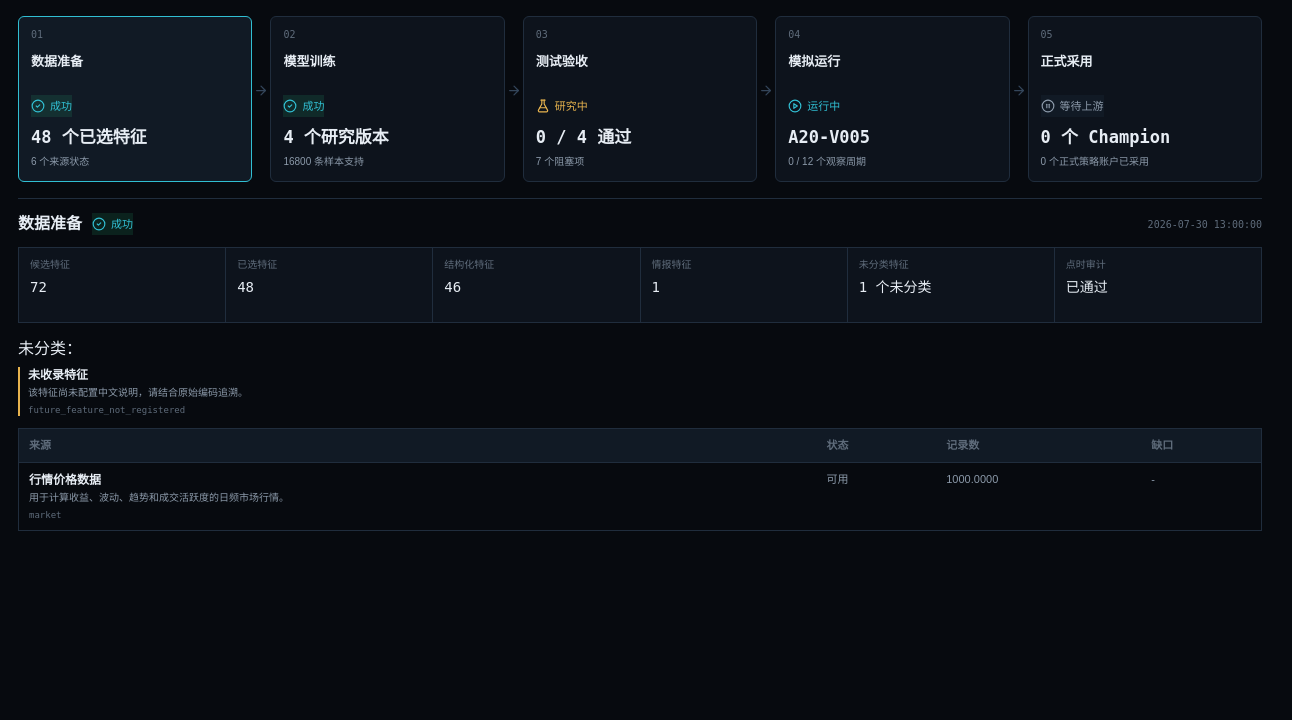
Test: ModelResearchPage › separates ranking diagnostics from the deployable mainline portfolio
Expected: the text "A20-V005" is shown, [788,127,870,147]
Click the button "02 模型训练 成功 4 个研究版本 16800 条样本支持": (388, 99) [270,16,505,182]
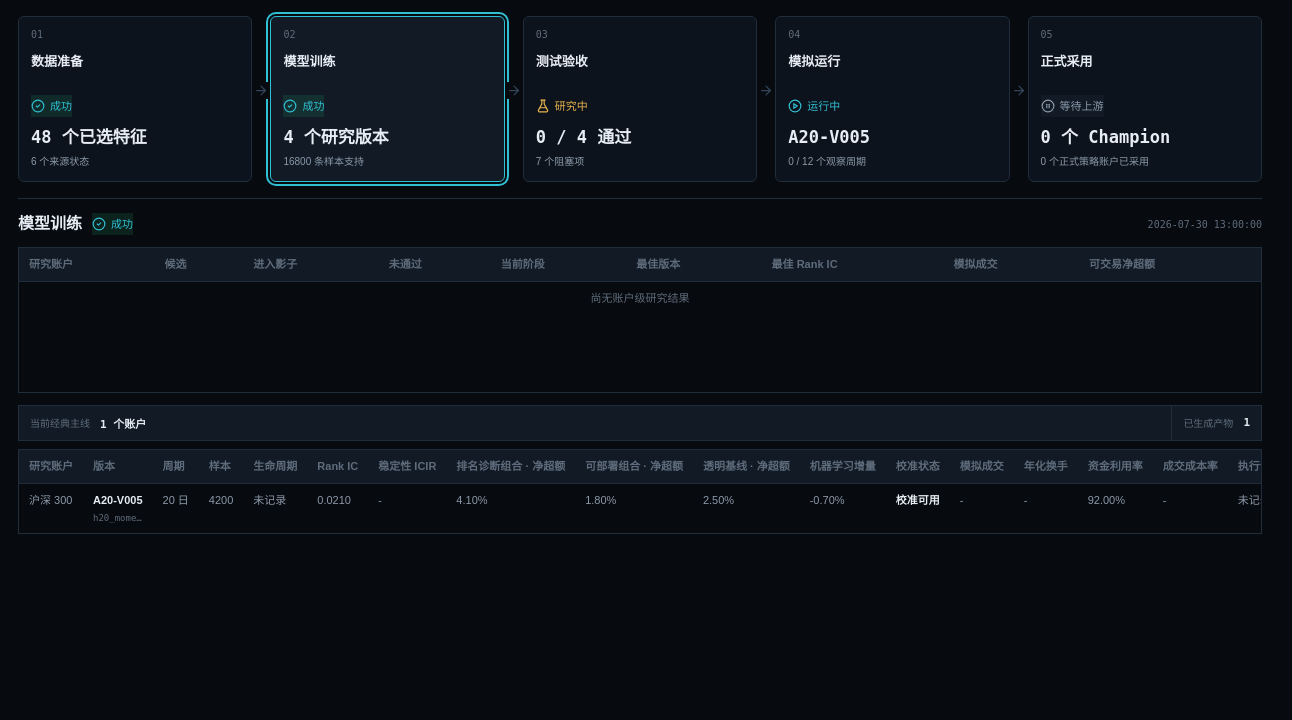
Expected: the column heading "排名诊断组合 · 净超额" is shown, [446,450,575,484]
Expected: the column heading "可部署组合 · 净超额" is shown, [575,450,693,484]
Expected: the column heading "透明基线 · 净超额" is shown, [693,450,800,484]
